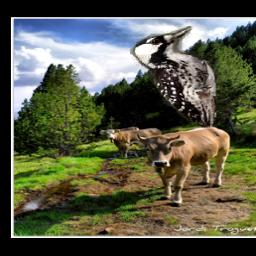Woodpecker: (131, 26, 217, 128)
